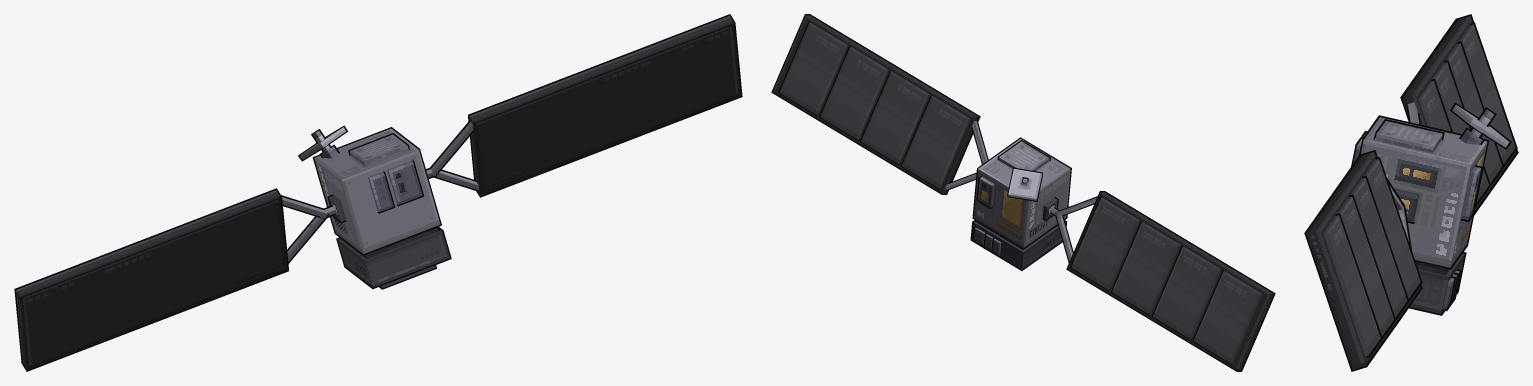
The model's file is satellite1.glb.
3 renders of one model, left to right at view 1: azimuth 30°, elevation 25°; view 2: azimuth 150°, elevation 25°; view 3: azimuth 270°, elevation 25°, orthographic. The views are drawn at different scales.
Parts seen in each view (by area): view 1: bone; view 2: bone; view 3: bone.
Boxes of the visible parts, x1,y1,x2,y2 form: bone: (14, 14, 742, 371); bone: (771, 14, 1275, 371); bone: (1304, 14, 1518, 371).
Size of the model in its own units: 14876 by 5298 by 3092.
2 materials, 1 textured.
